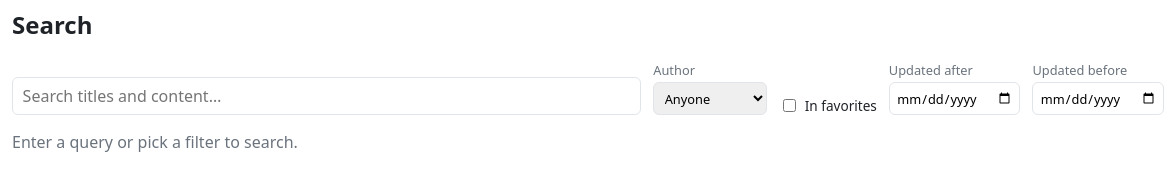
Scenario: SearchPage › runs a filtered search and lists results
In the search field named "Search query": (327, 96) [12,77,641,115], type "install"
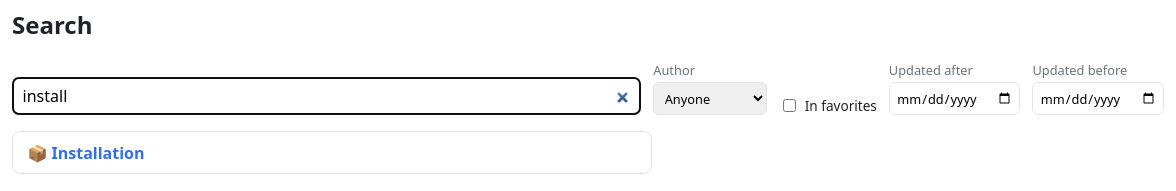
expect the link "📦 Installation" is shown: met, box [27,142,144,164]
